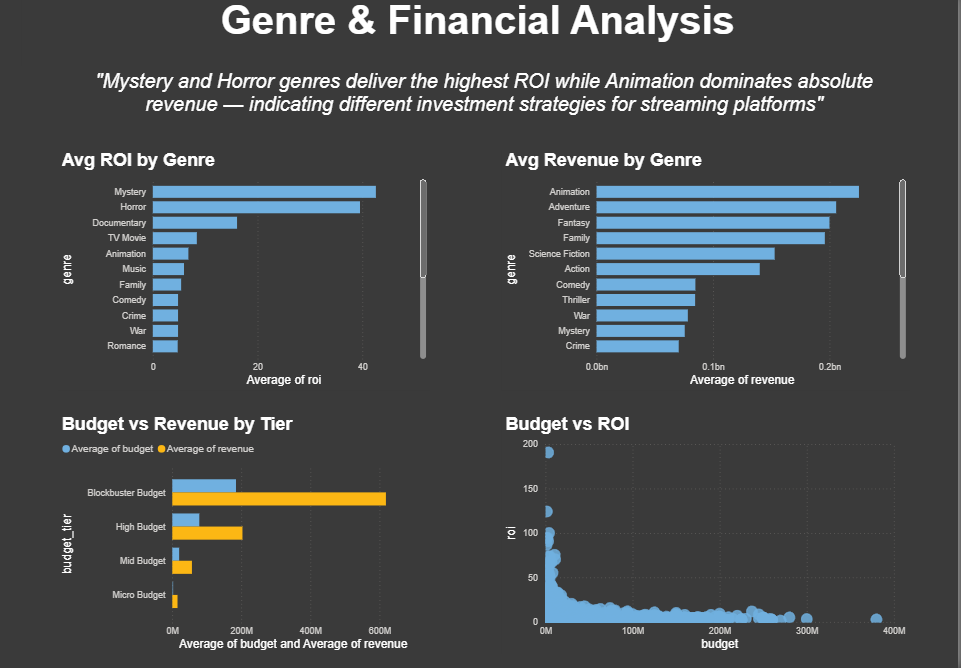

This screenshot's page, from the dashboard's own definition file:
{"tool":"powerbi","page":{"name":"Genre & Financial Analysis","canvas":[1280,900],"ordinal":1},"visuals":[{"type":"barChart","title":"Avg ROI by Genre","fields":{"Category":["genres_clean.genre"],"Y":["Avg(genres_clean.roi)"]},"box":[80,208,496,320],"z":0},{"type":"barChart","title":"Avg Revenue by Genre","fields":{"Category":["genres_clean.genre"],"Y":["Avg(genres_clean.revenue)"]},"box":[672,208,544,320],"z":1000},{"type":"clusteredBarChart","title":"Budget vs Revenue by Tier","fields":{"Category":["movies_final.budget_tier"],"Y":["Avg(movies_final.budget)","Avg(movies_final.revenue)"]},"box":[80,560,496,320],"z":2000},{"type":"scatterChart","title":"Budget vs ROI","fields":{"Y":["movies_final.roi"],"X":["movies_final.budget"]},"box":[672,560,544,320],"z":3000},{"type":"textbox","box":[32,0,1216,96],"z":4000},{"type":"textbox","box":[80,96,1136,96],"z":5000}]}

Visuals, with their boxes in screenshot pixels (x1, y1, x2, y2), scaled from the page's 1280x900 canvas onto the 961x668 screenshot:
"Avg ROI by Genre" barChart: x1=60, y1=154, x2=432, y2=392
"Avg Revenue by Genre" barChart: x1=505, y1=154, x2=913, y2=392
"Budget vs Revenue by Tier" clusteredBarChart: x1=60, y1=416, x2=432, y2=653
"Budget vs ROI" scatterChart: x1=505, y1=416, x2=913, y2=653
textbox: x1=24, y1=0, x2=937, y2=71
textbox: x1=60, y1=71, x2=913, y2=143
